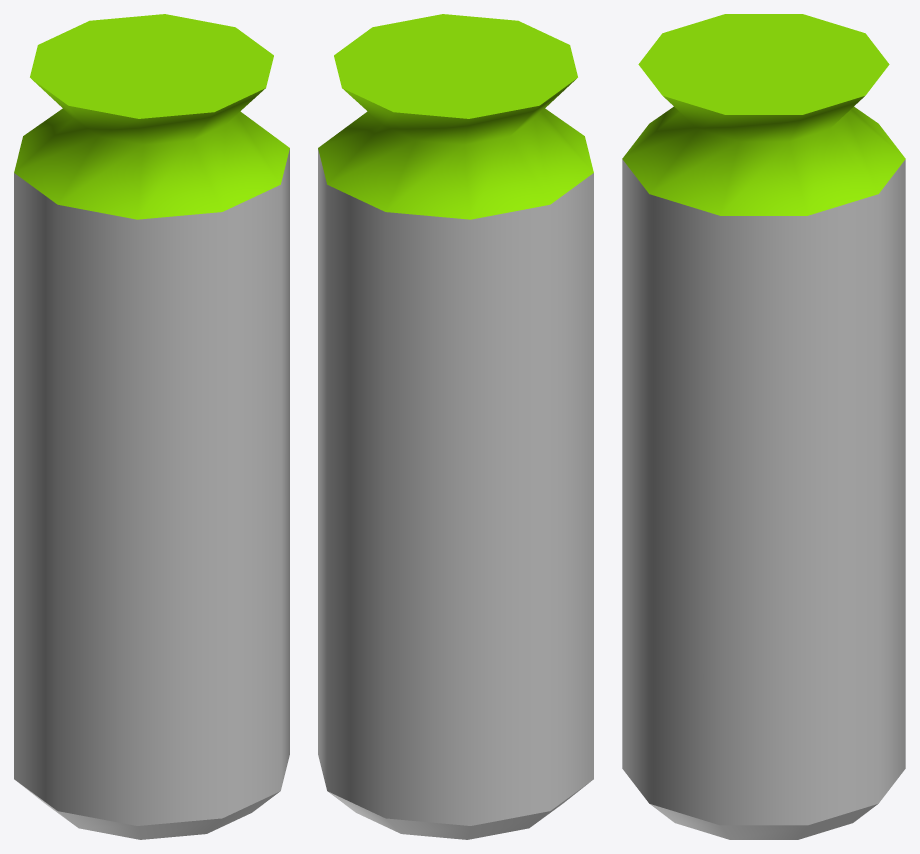
File: Bullet B Mat.fbx
3 renders of one model, left to right at view 1: azimuth 30°, elevation 25°; view 2: azimuth 150°, elevation 25°; view 3: azimuth 270°, elevation 25°, orthographic.
Parts seen in each view (by area): view 1: Bullet B Mat; view 2: Bullet B Mat; view 3: Bullet B Mat.
Boxes of the visible parts, x1,y1,x2,y2 form: Bullet B Mat: (14,14,289,839); Bullet B Mat: (318,14,593,839); Bullet B Mat: (622,14,905,839).
Bounding box in the file's own units: 0.0549 × 0.1641 × 0.0577.
